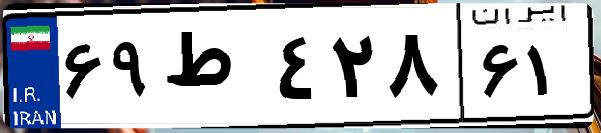1: (525, 38, 570, 115)
2: (330, 28, 385, 110)
4: (270, 28, 330, 110)
6: (57, 26, 110, 100), (475, 38, 525, 113)
8: (385, 28, 445, 110)
9: (110, 28, 158, 98)
ط: (158, 20, 270, 120)
